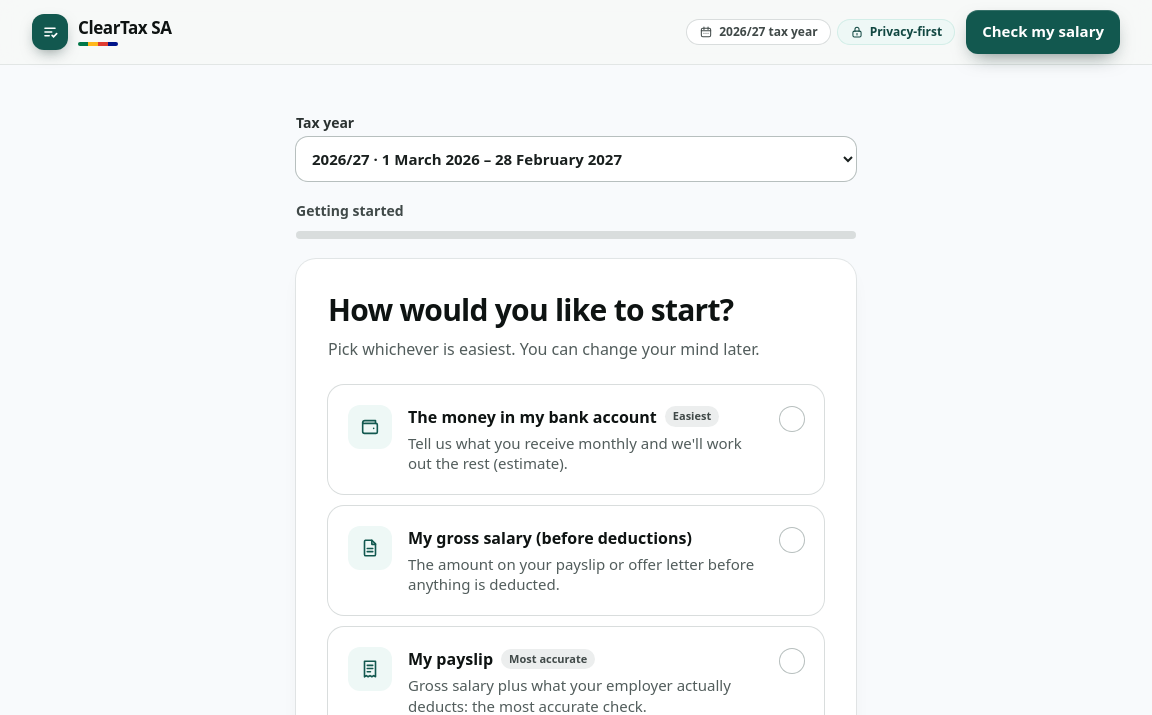
Test: step 0: how would you like to start? › won't continue until a choice is made
Click the radio button that starts with "My gross salary (before deductions)". click: coordinates (576, 560)
box: [328,506,824,615]
(page scrolled)
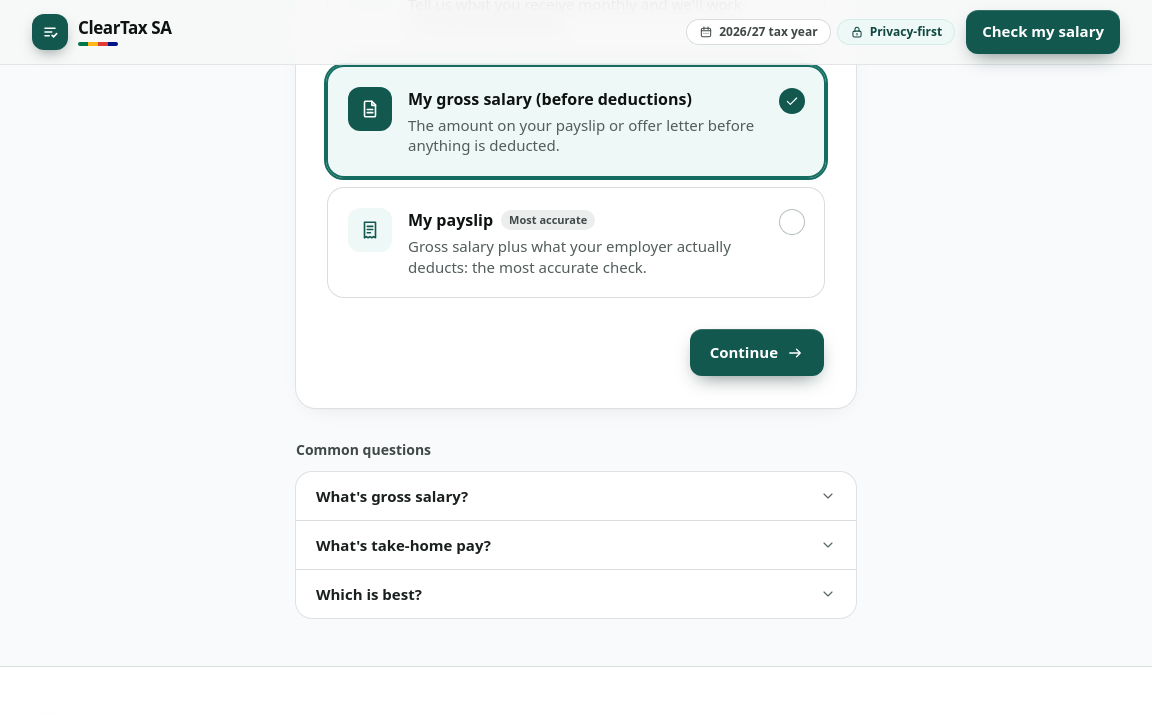
Expected: the button "Continue" is enabled, [690,329,824,376]
